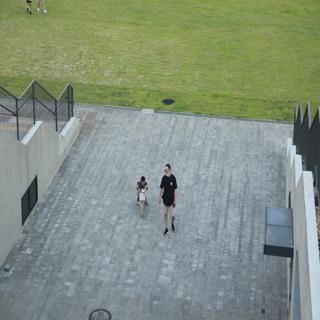person: (160, 158, 184, 238), (133, 168, 153, 201)
